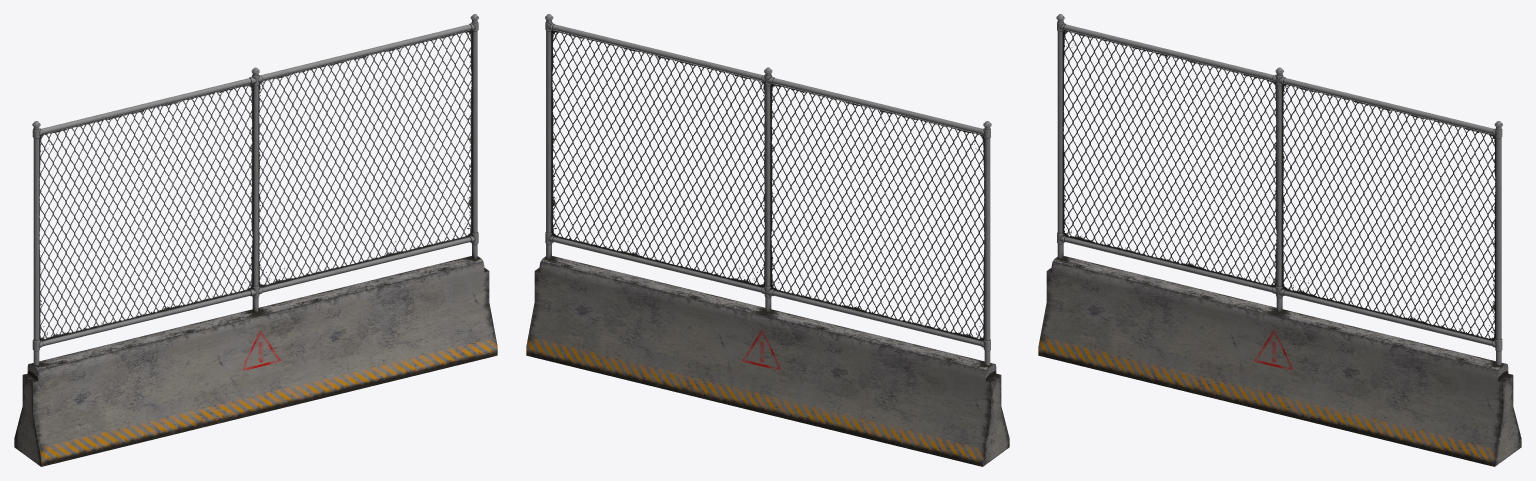
The model's file is fence_concrete-_15mb.glb.
3 renders of one model, left to right at view 1: azimuth 30°, elevation 25°; view 2: azimuth 150°, elevation 25°; view 3: azimuth 330°, elevation 25°, orthographic.
Visible parts, largest first — view 1: 01_2_01_0, 01_01_0, 02_02_0; view 2: 01_2_01_0, 01_01_0, 02_02_0; view 3: 01_2_01_0, 01_01_0, 02_02_0.
Boxes of the visible parts, x1,y1,x2,y2 form: 01_2_01_0: (14, 256, 497, 466); 01_01_0: (39, 30, 472, 340); 02_02_0: (32, 14, 478, 365); 01_2_01_0: (526, 256, 1009, 466); 01_01_0: (551, 30, 984, 340); 02_02_0: (545, 14, 991, 366); 01_2_01_0: (1038, 256, 1521, 466); 01_01_0: (1063, 30, 1495, 340); 02_02_0: (1056, 14, 1502, 365).
Size of the model in its own units: 3.55 by 2.48 by 0.3634.
2 materials, 2 textured.
